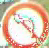Don't turn left: (3, 4, 44, 45)
